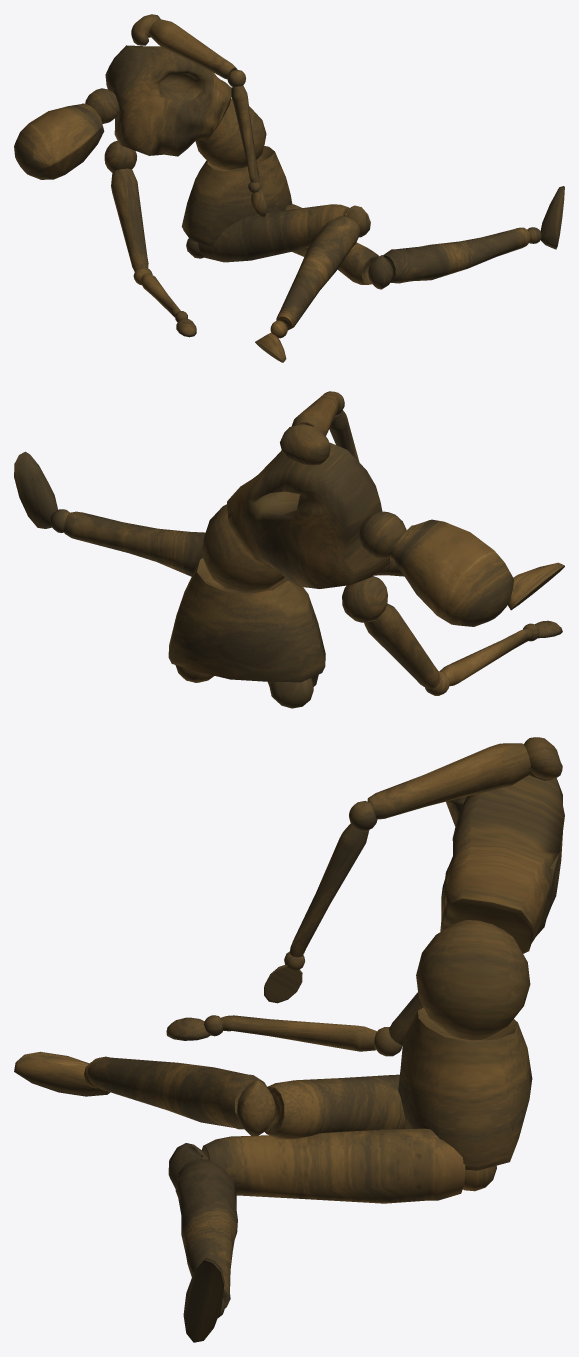
File: maniqui_pose1.fbx
3 views of the same model, one above another, from view 1: azimuth 30°, elevation 25°; view 2: azimuth 150°, elevation 25°; view 3: azimuth 270°, elevation 25° (orthographic). The views are drawn at different scales.
Visible parts, largest first — view 1: dummy_obj.003; view 2: dummy_obj.003; view 3: dummy_obj.003.
Part boxes in pixels (x1=…): dummy_obj.003: x1=14, y1=14, x2=564, y2=362; dummy_obj.003: x1=14, y1=391, x2=564, y2=708; dummy_obj.003: x1=14, y1=737, x2=564, y2=1342.
Size of the model in its own units: 120 by 59.03 by 78.54.
